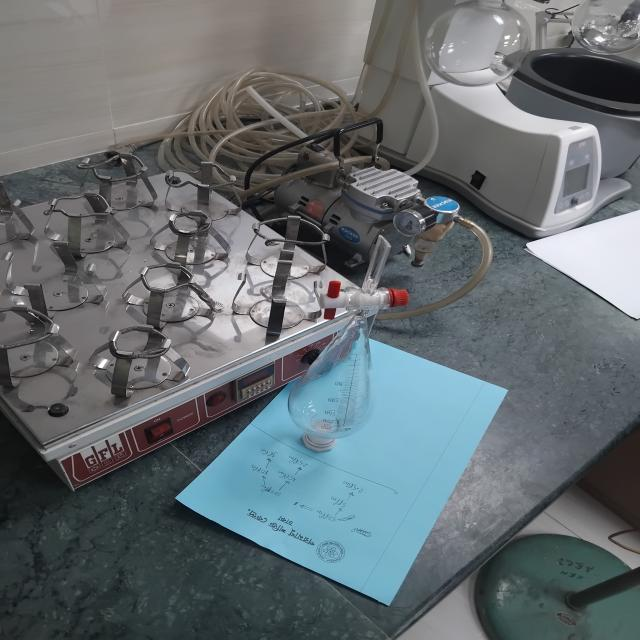Separating_Funnel: (276, 212, 418, 472)
